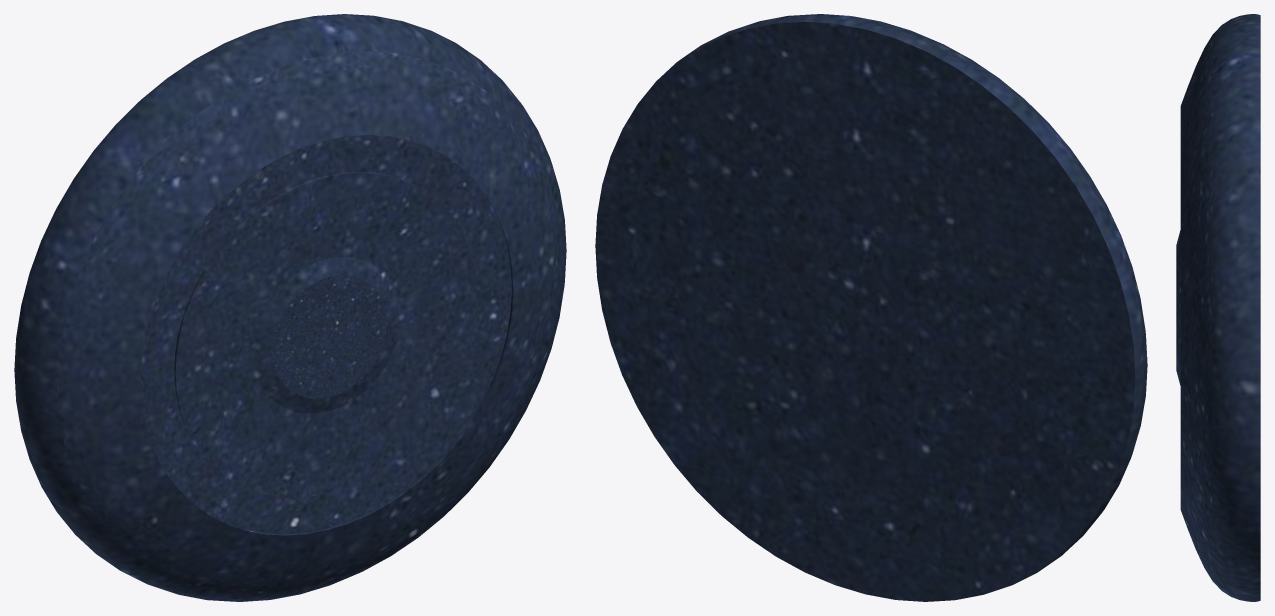
The model's file is 10505_Frisbee_v3_L3.obj.
3 renders of one model, left to right at view 1: azimuth 30°, elevation 25°; view 2: azimuth 150°, elevation 25°; view 3: azimuth 270°, elevation 25°, orthographic. The views are drawn at different scales.
Parts seen in each view (by area): view 1: 10505_Frisbee_v3_SG; view 2: 10505_Frisbee_v3_SG; view 3: 10505_Frisbee_v3_SG.
Part boxes in pixels (x1,y1,x2,y2): 10505_Frisbee_v3_SG: (14,14,566,601); 10505_Frisbee_v3_SG: (595,14,1147,601); 10505_Frisbee_v3_SG: (1176,14,1260,601).
Bounding box in the file's own units: 23.2 × 23.19 × 3.33.
1 material, 1 textured.
